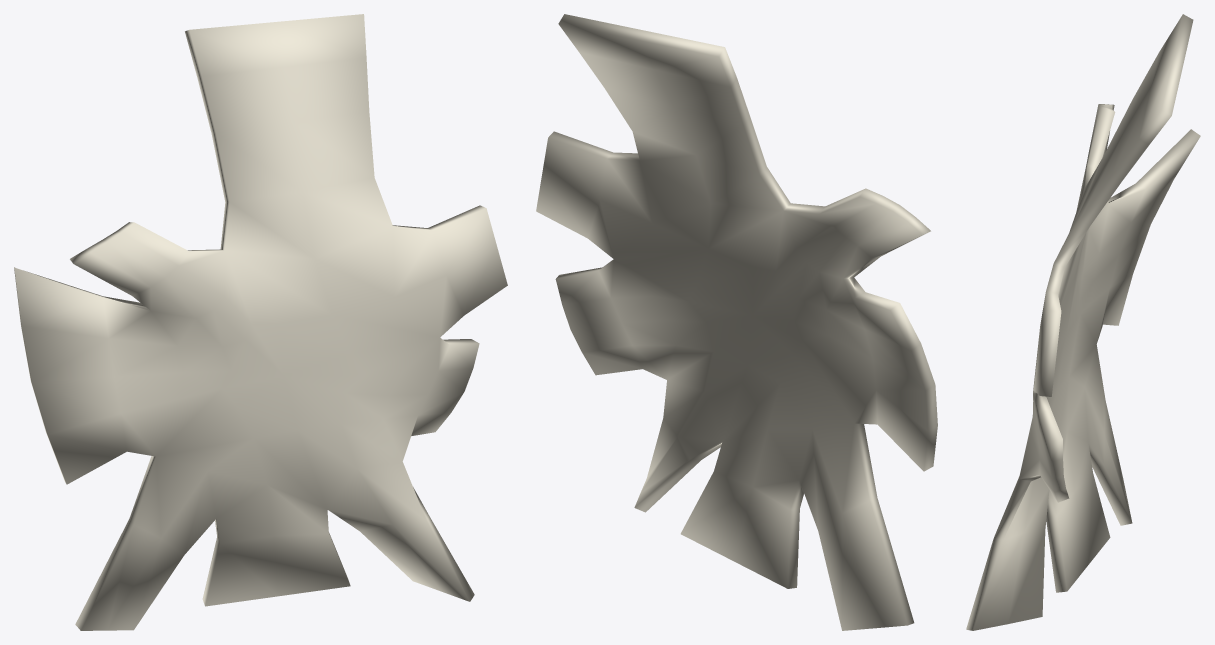
The picture shows the model from 3 angles, left to right: view 1: azimuth 30°, elevation 25°; view 2: azimuth 150°, elevation 25°; view 3: azimuth 270°, elevation 25°; orthographic projection. The views are drawn at different scales.
Visible parts, largest first — view 1: ZA_1da73a655b2859ea; view 2: ZA_1da73a655b2859ea; view 3: ZA_1da73a655b2859ea.
Boxes of the visible parts, x1,y1,x2,y2 form: ZA_1da73a655b2859ea: (14, 14, 507, 630); ZA_1da73a655b2859ea: (536, 14, 937, 630); ZA_1da73a655b2859ea: (966, 14, 1200, 630).
Size of the model in its own units: 0.0201 by 0.0251 by 0.00966.
